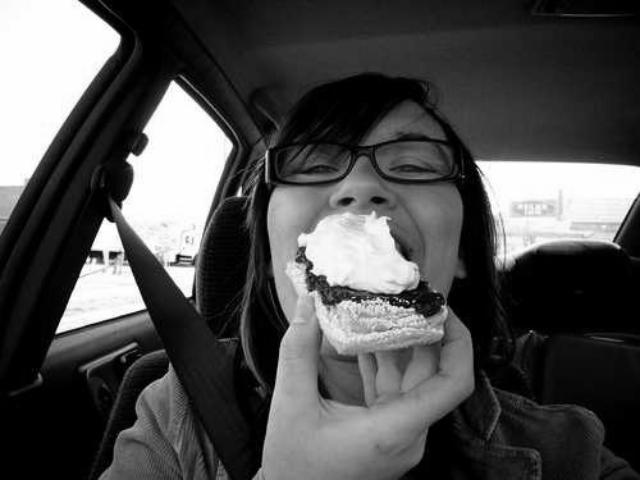SafeDriving: (380, 152, 446, 182), (288, 150, 346, 184)
Seatbelt: (87, 158, 271, 480)
